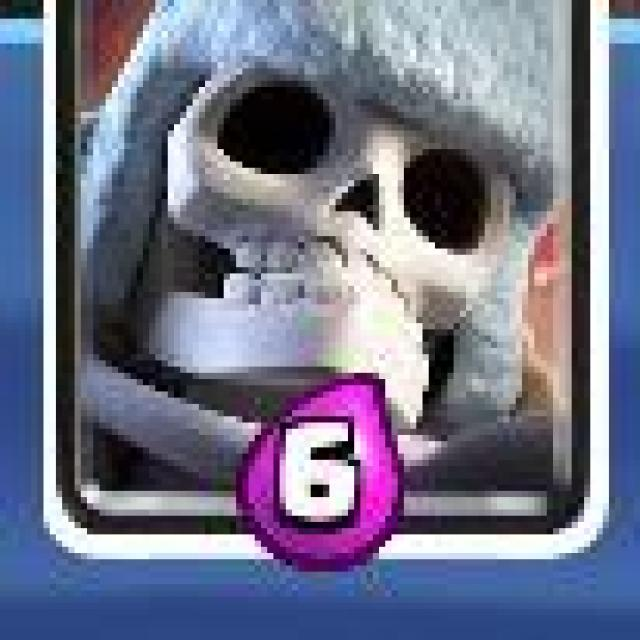Giant_Skeleton: (39, 0, 613, 566)
